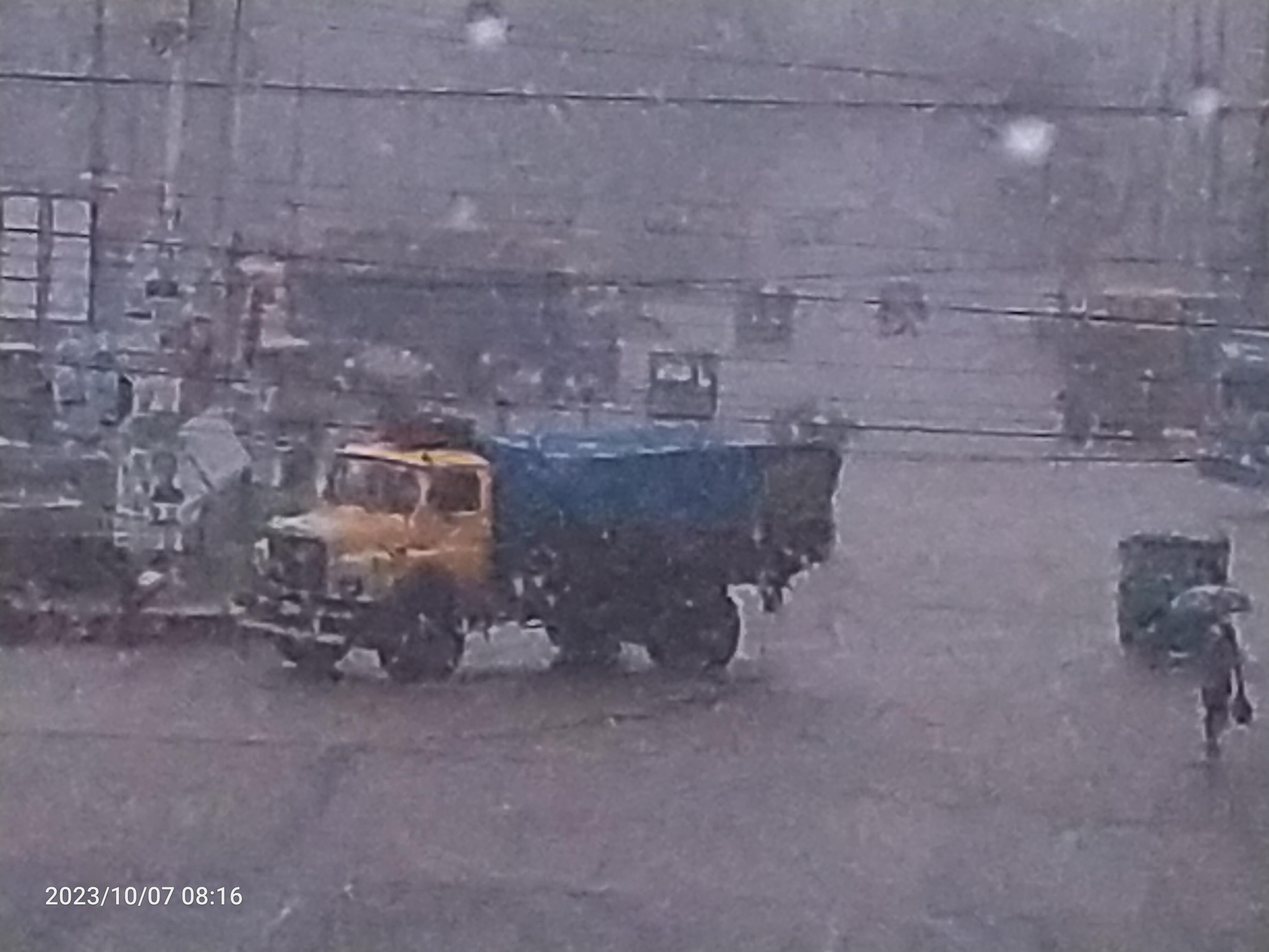Truck: (202, 403, 898, 690)
